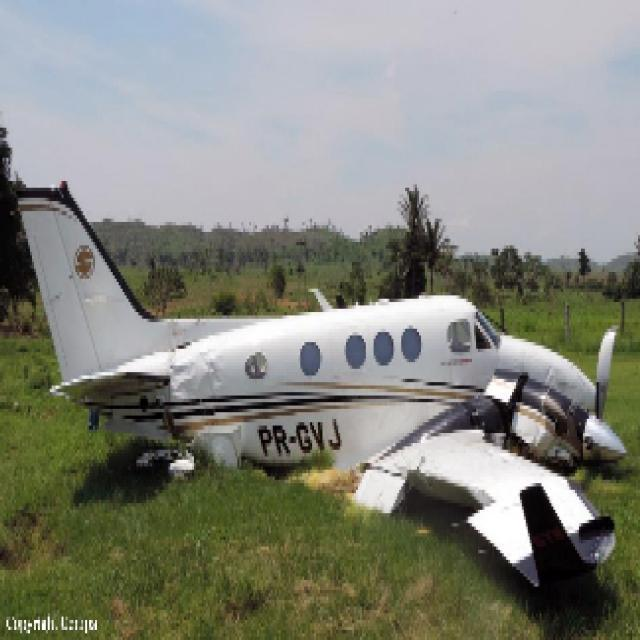dent: (171, 351, 226, 421)
